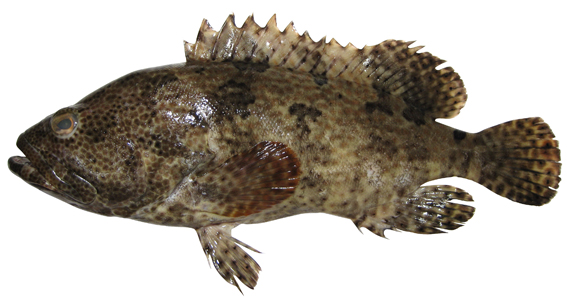fish: (7, 12, 562, 295)
